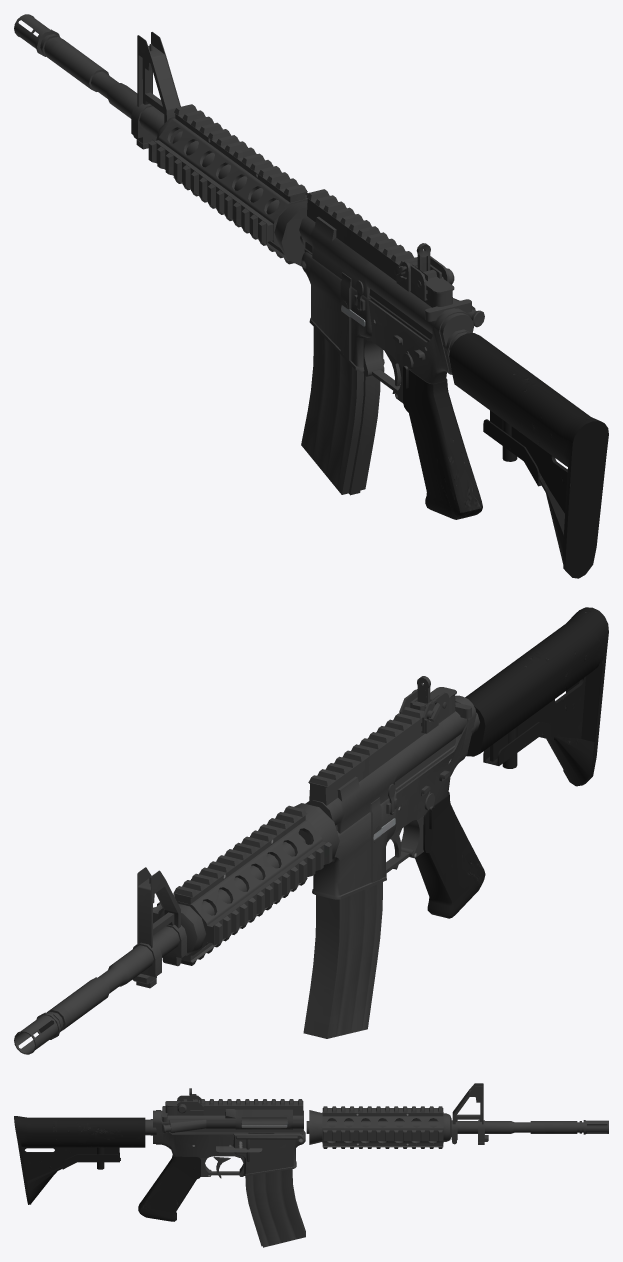
Rendered from rifle.glb.
3 renders of one model, top to bottom at view 1: azimuth 30°, elevation 25°; view 2: azimuth 150°, elevation 25°; view 3: azimuth 270°, elevation 25°, orthographic. The views are drawn at different scales.
Visible parts, largest first — view 1: Base, Barrel, Stock, Magazine, Sight; view 2: Base, Barrel, Stock, Magazine, Sight; view 3: Base, Barrel, Stock, Magazine, Sight, Ejector_Lid.
Boxes of the visible parts, x1,y1,x2,y2 form: Base: (299,189,484,519); Barrel: (14,14,308,266); Stock: (443,329,608,578); Magazine: (301,327,380,495); Sight: (396,256,449,300); Base: (305,687,485,918); Barrel: (14,803,339,1054); Stock: (465,607,608,786); Magazine: (303,882,382,1038); Sight: (399,689,449,733); Base: (138,1099,305,1221); Barrel: (306,1083,608,1148); Stock: (14,1116,156,1204); Magazine: (245,1132,305,1247); Sight: (177,1094,203,1115); Ejector_Lid: (216,1146,262,1152).
Size of the model in its own units: 0.0612 by 0.2497 by 0.84.
1 material, 1 textured.
